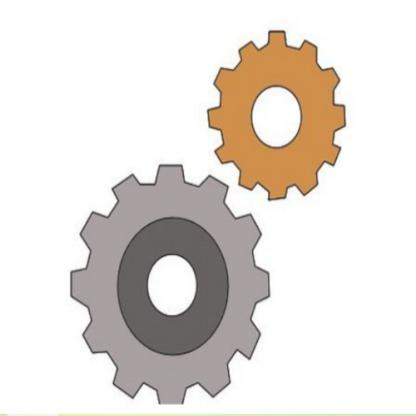FOD: (63, 162, 272, 404), (205, 27, 350, 201)
